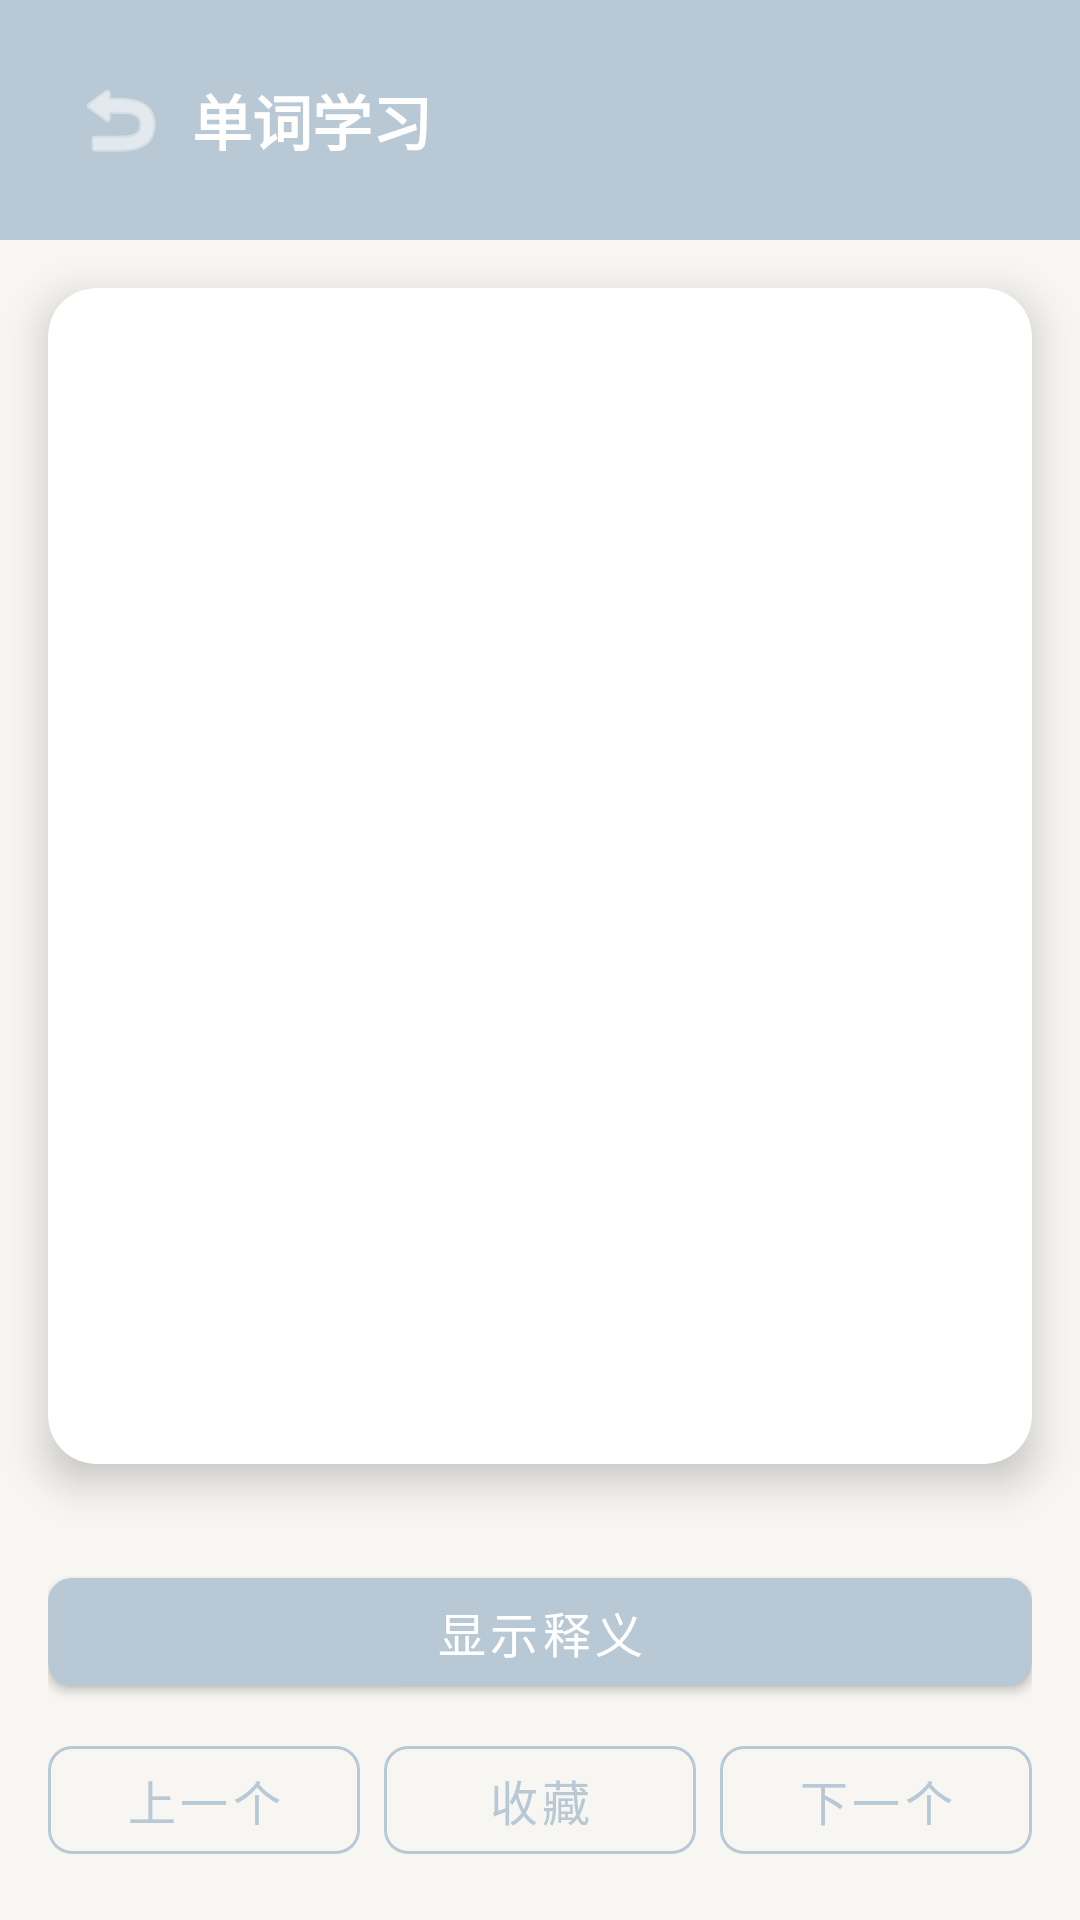

Locate icon controls on the screen. Image size 1080 × 1920, boxes as detection(x1, y1, x2, y2).
revert: detection(87, 90, 155, 151)
